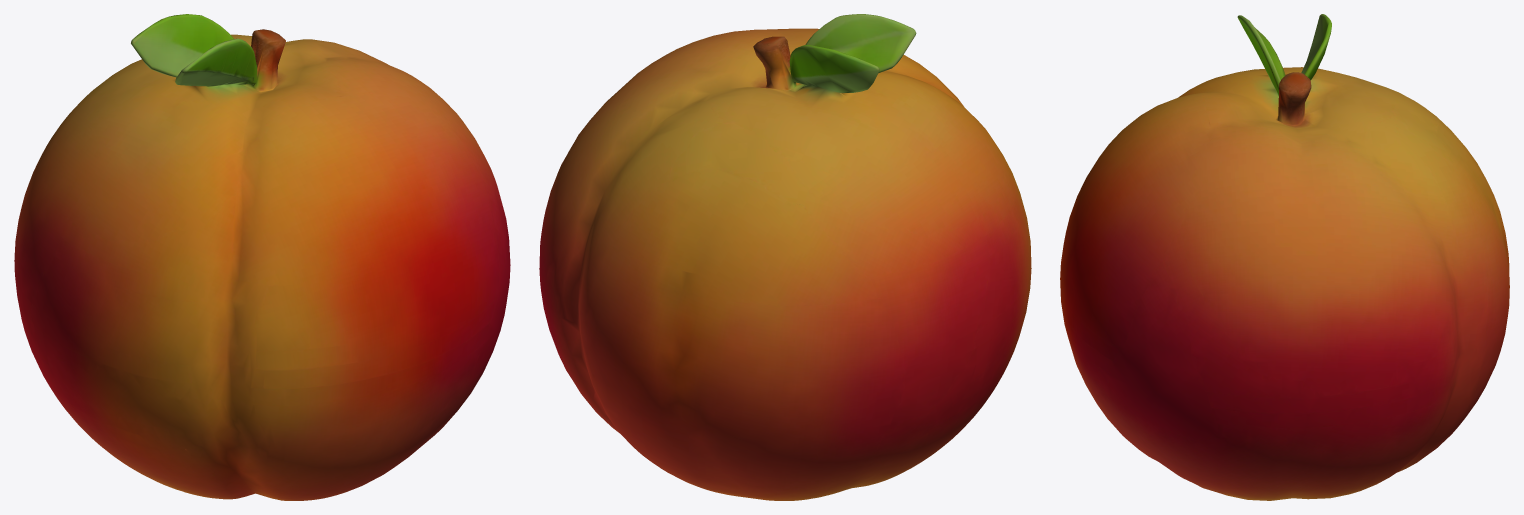
File: peach.glb
3 views of the same model, side by side, from view 1: azimuth 30°, elevation 25°; view 2: azimuth 150°, elevation 25°; view 3: azimuth 270°, elevation 25° (orthographic). The views are drawn at different scales.
Visible parts, largest first — view 1: material; view 2: material; view 3: material.
Part boxes in pixels (x1=…): material: x1=14, y1=14, x2=510, y2=500; material: x1=539, y1=14, x2=1031, y2=500; material: x1=1060, y1=14, x2=1509, y2=500.
Size of the model in its own units: 1.1 by 1.1 by 1.08.
Materials: 1 (1 with a texture image).
